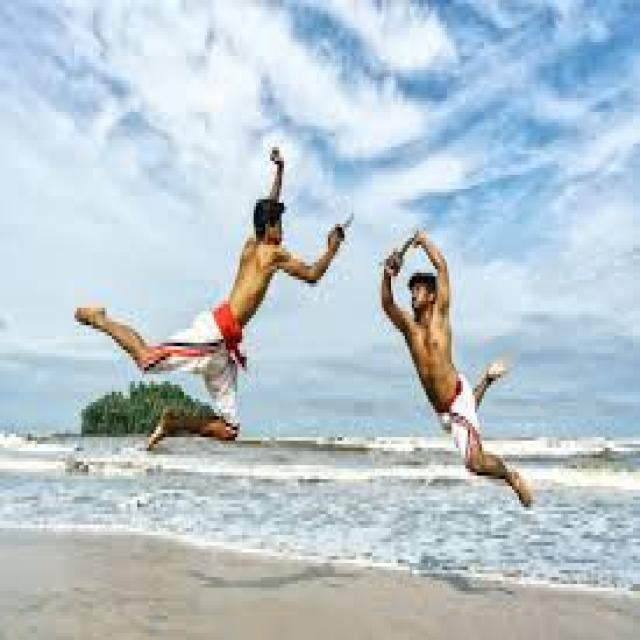Gun: (384, 226, 422, 262), (331, 205, 362, 235)
